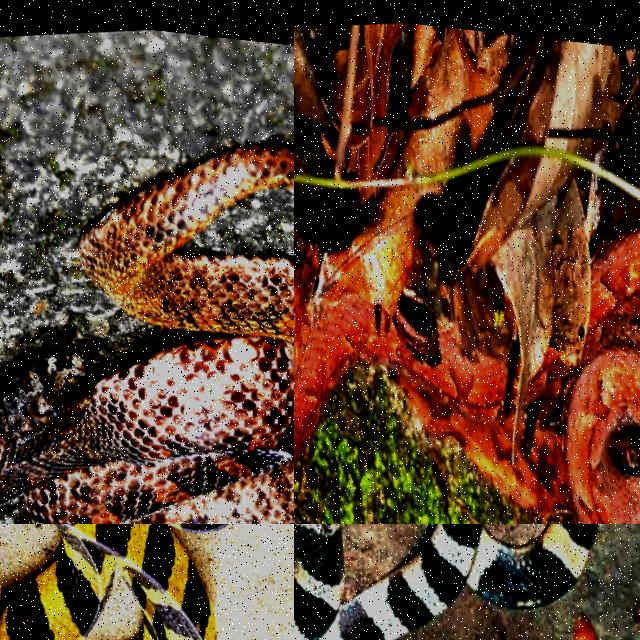Bungarus candidus: (294, 524, 597, 639)
Bungarus fasciatus: (0, 524, 215, 639)
Calloselasma rhodostoma: (294, 296, 516, 461)
Ovophis monticola: (0, 144, 293, 523)
snake: (0, 144, 293, 523), (294, 296, 516, 461), (294, 524, 597, 639), (0, 524, 215, 639)
